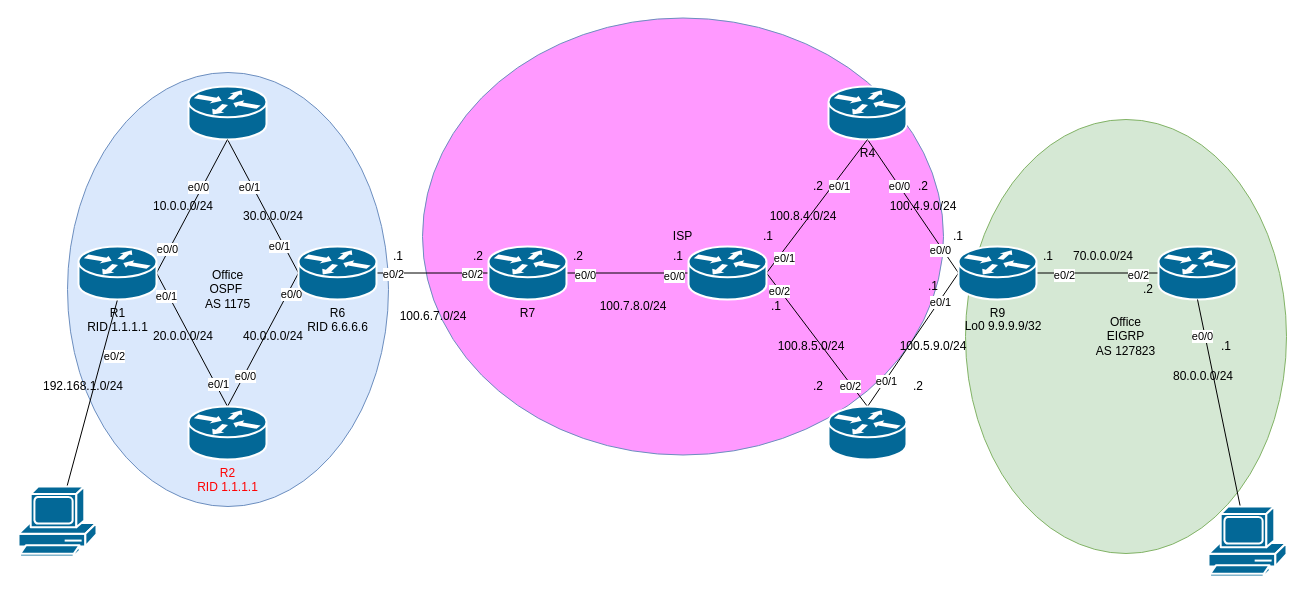
Image size: 1304x594. Some labels were removed from this diagram. The centre of each missing label's shape, as x and y in pixels:
"R10" belongs at (1197,272).
"R3 RID 3.3.3.3" belongs at (227,112).
"R5" belongs at (867,432).
"R8" belongs at (727,272).
